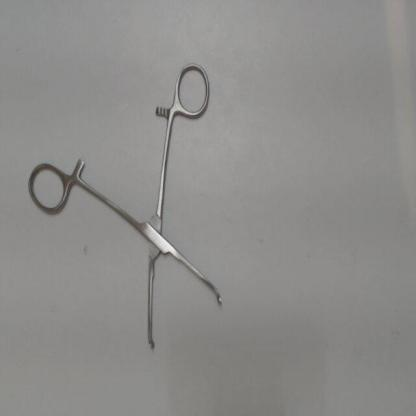Allis Tissue Forceps: (23, 56, 233, 362)
